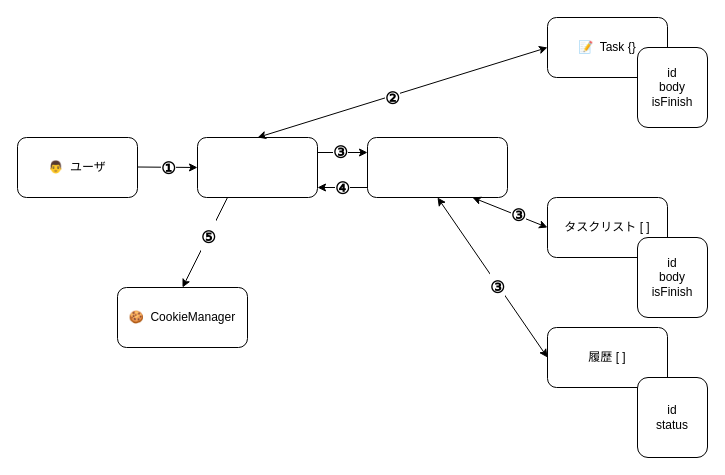
Some shapes in this 725 by 475 pixel diagram are drawn without their labels. Each missing label, with the box of its shape:
🌍 App: (196, 136, 318, 198)
🏭 TaskContainer: (366, 136, 508, 198)
